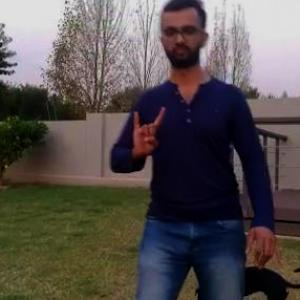takeoff-hand: (126, 100, 170, 162)
